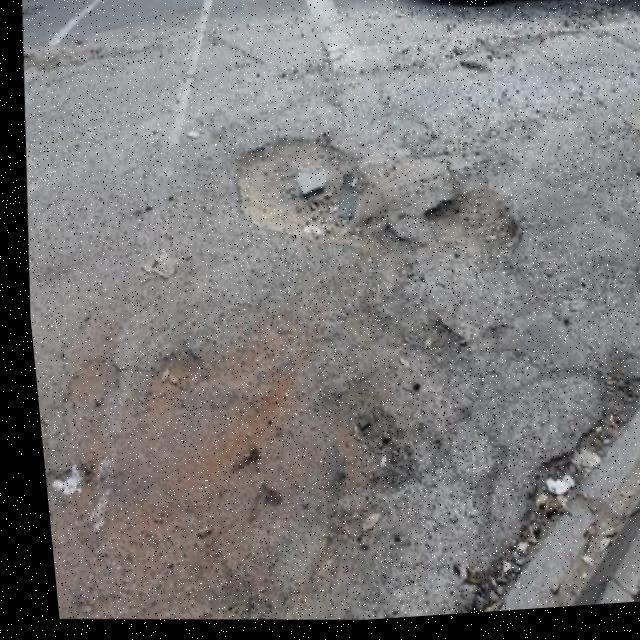Pothole: (232, 135, 538, 342), (318, 382, 421, 538), (201, 446, 283, 577), (144, 348, 212, 426), (65, 357, 122, 418)
